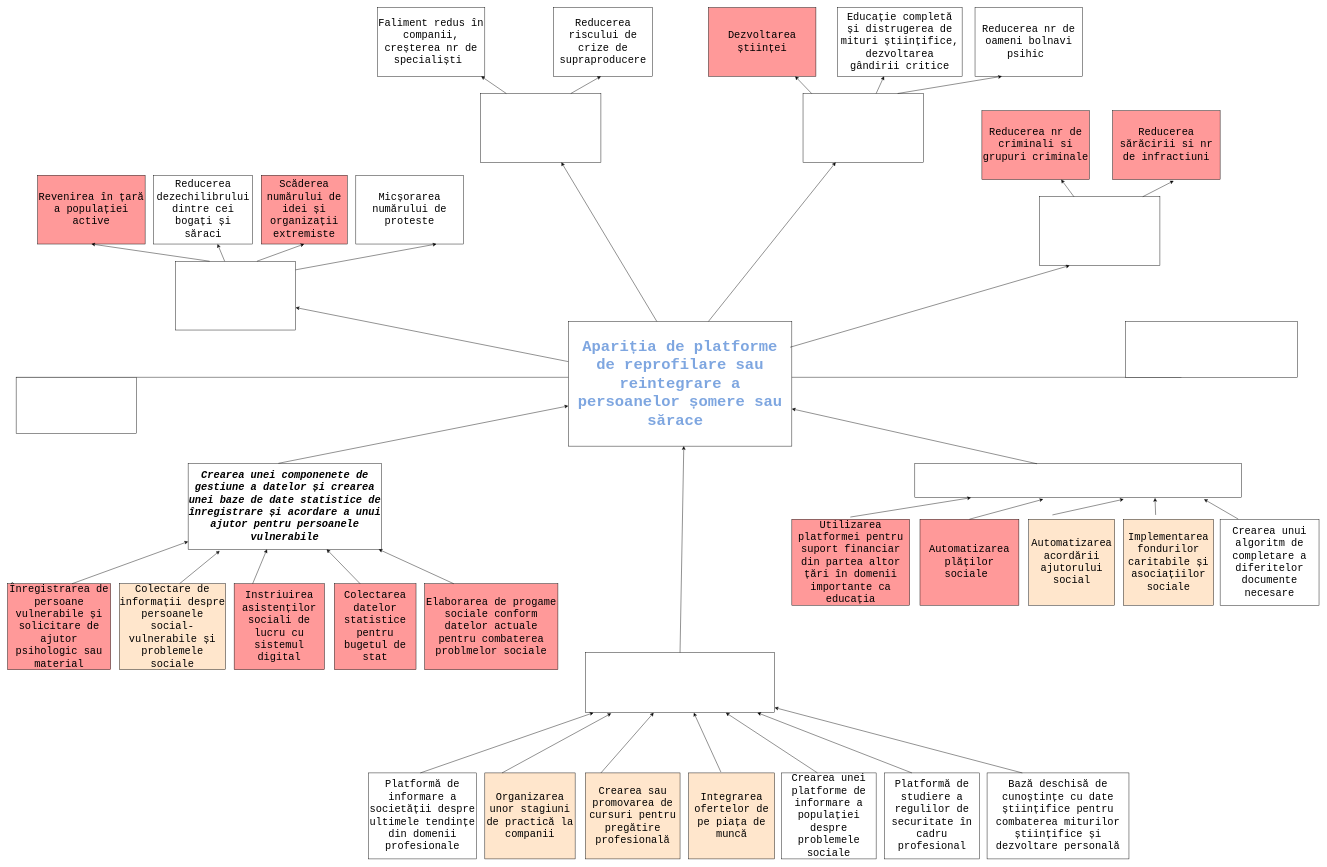
Some shapes in this 1327 by 867 pixel diagram are drawn without their labels. The centre of each missing label's shape, as x and y in pixels:
Componenta de optimizare și gestionare a resurselor financiare și materiale: point 1078,480
Crearea unei componente de reprofilare profesională și de informare a populației: point 680,682
Creșterea nivelului intelectual al societății: point 863,127
Dezvoltare stabilă a economiei: point 540,127
Micșorarea inegalității sociale: point 235,295
OBIECTIVE: point 76,405
REZULTATE: point 1211,349
Scăderea criminalității: point 1099,231
